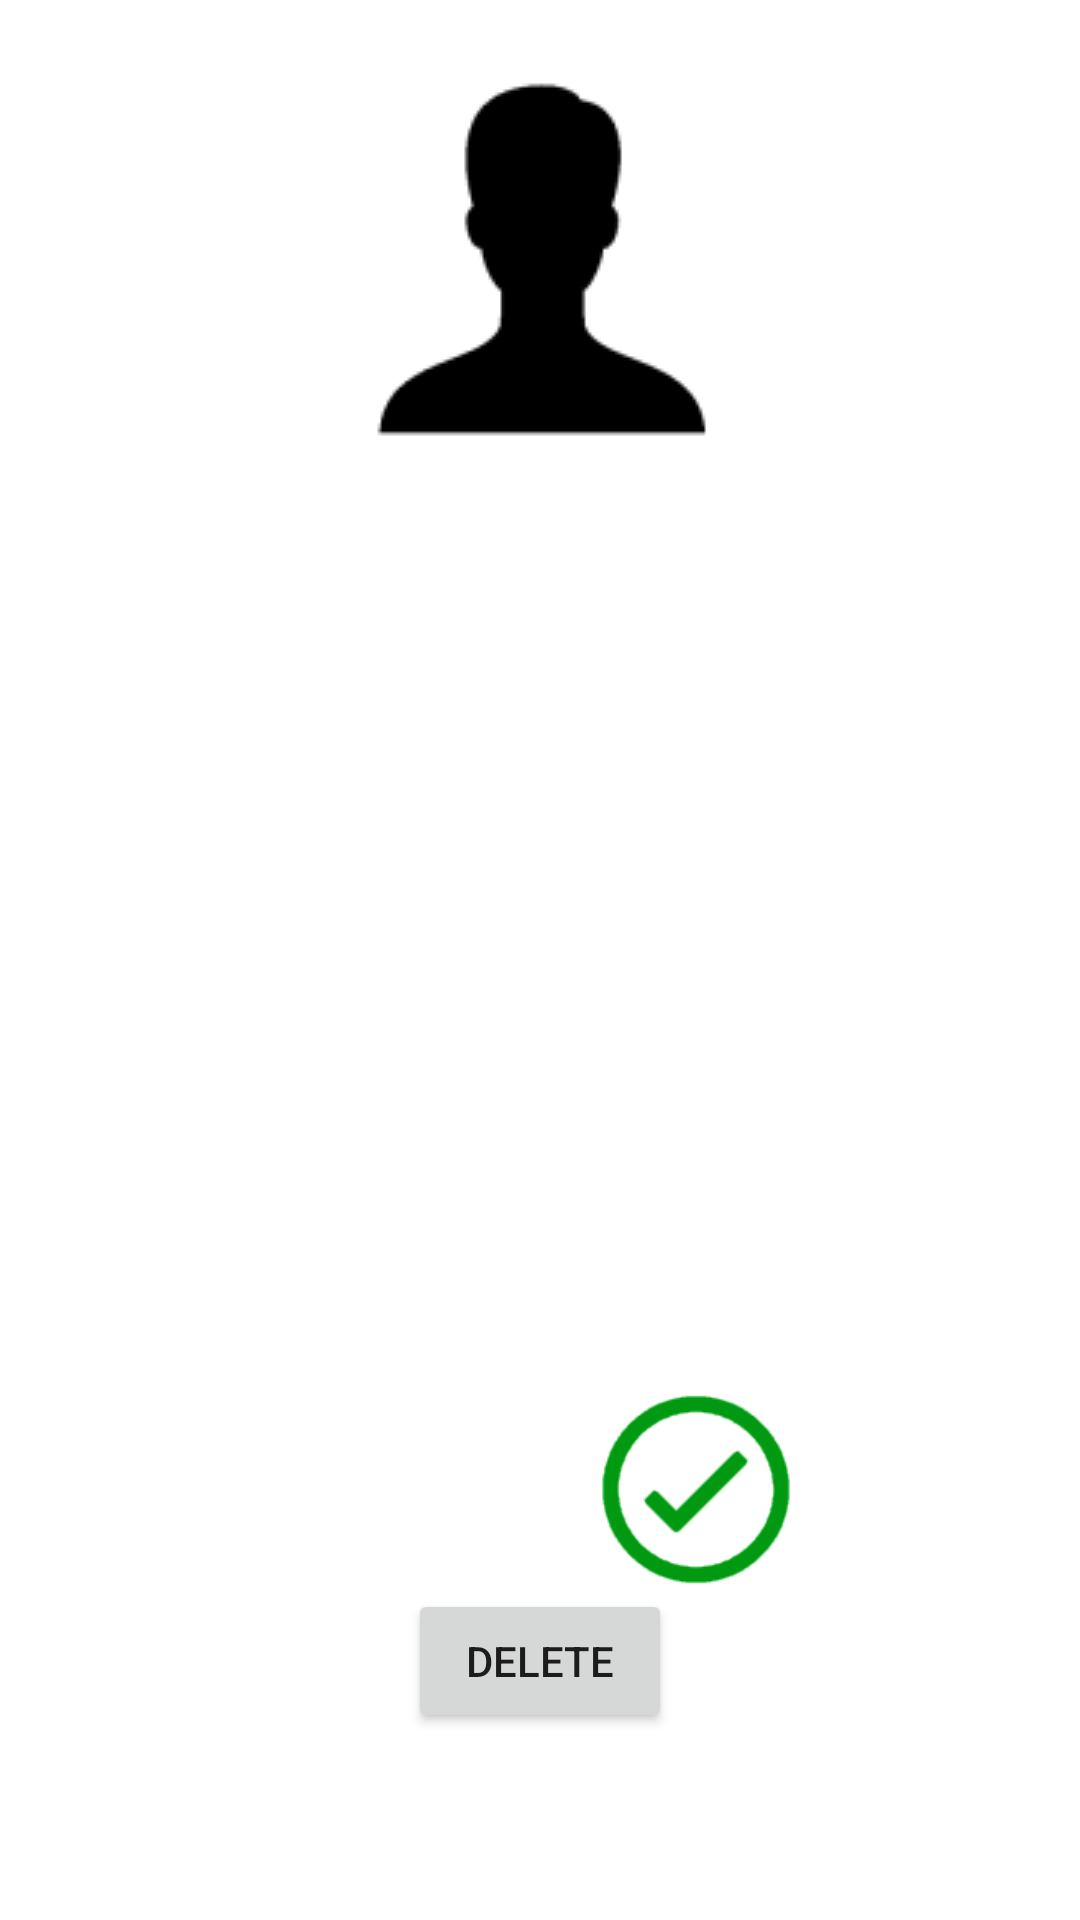

Icons on this 1080px×1920px Android screen, each with its box as (x1, y1, x2, y2):
maleicon: (377, 83, 706, 436)
tick: (602, 1395, 790, 1584)
